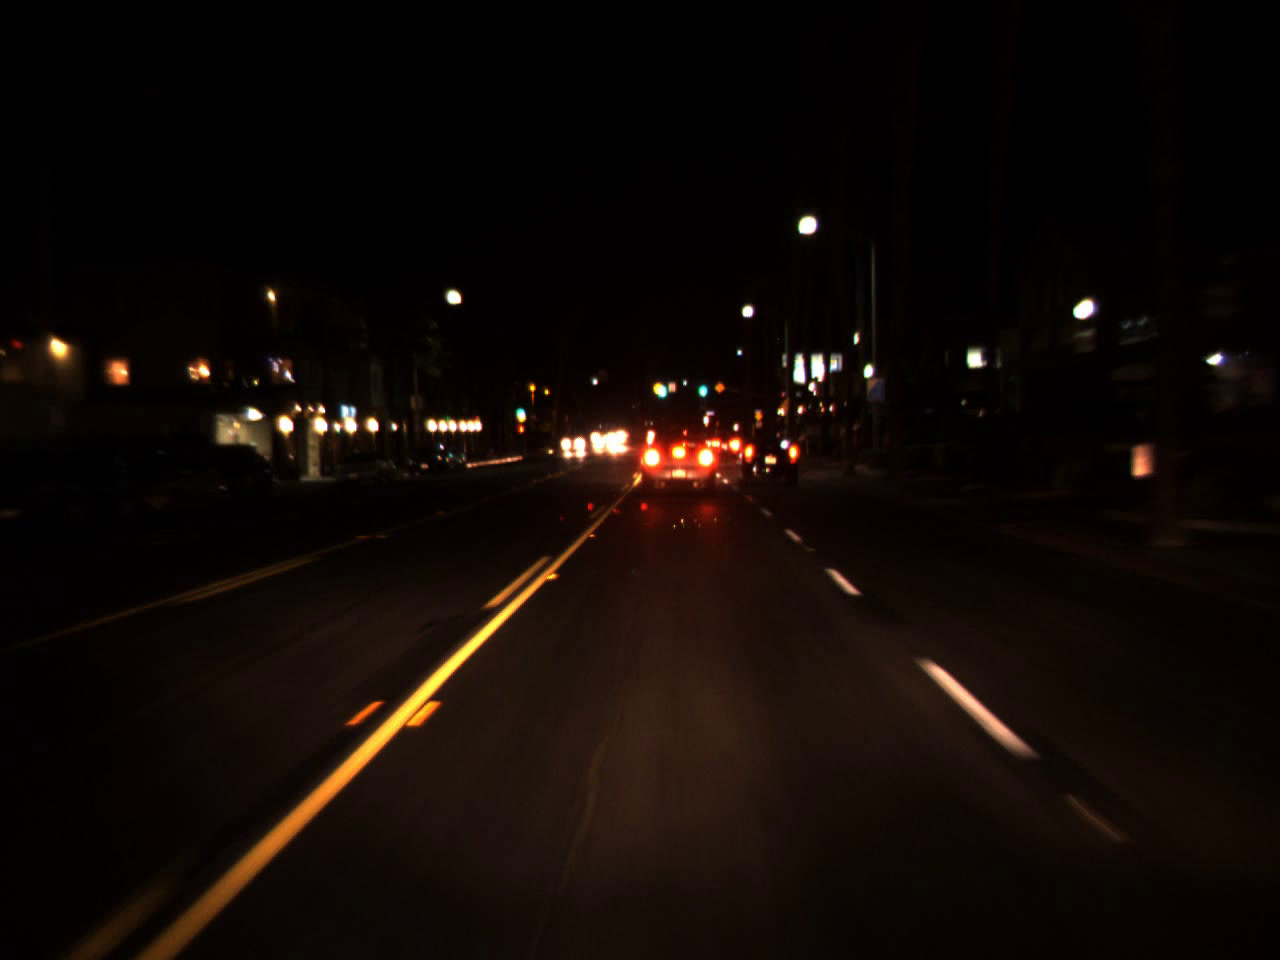go: (509, 396, 528, 419), (696, 371, 708, 401), (654, 376, 666, 400)
